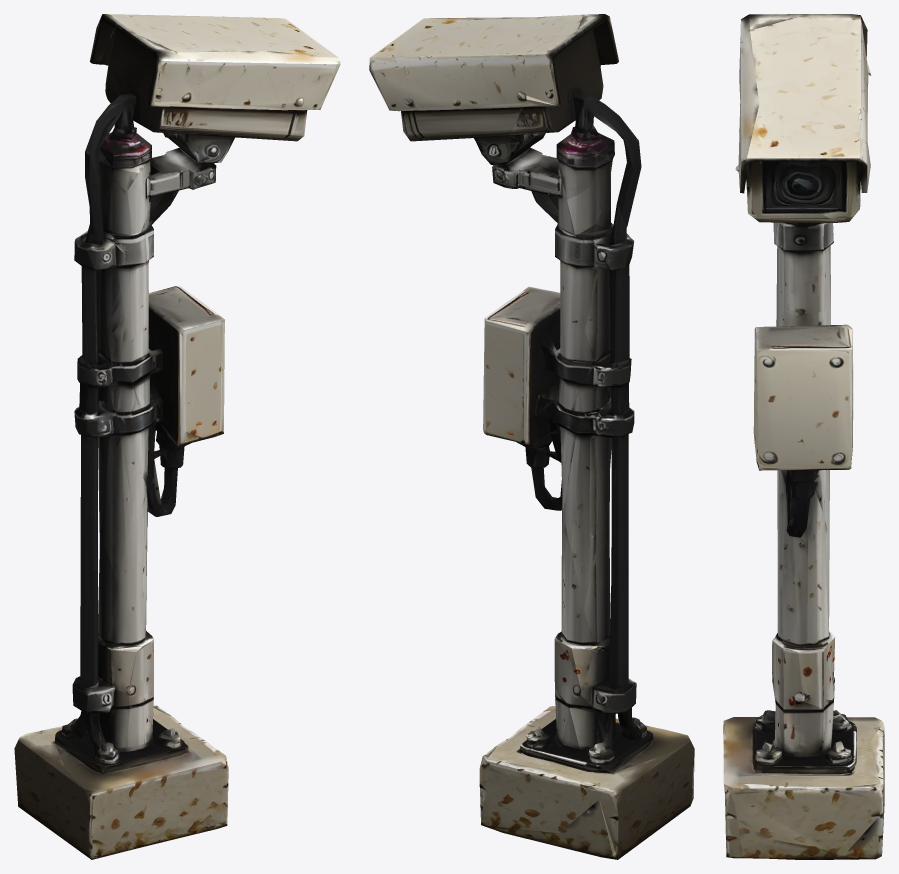
The model's file is camera-pole.glb.
3 renders of one model, left to right at view 1: azimuth 30°, elevation 25°; view 2: azimuth 150°, elevation 25°; view 3: azimuth 270°, elevation 25°, orthographic. The views are drawn at different scales.
Visible parts, largest first — view 1: node_0; view 2: node_0; view 3: node_0.
Boxes of the visible parts, left/top/right/bottom form: node_0: left=14, top=14, right=340, bottom=859; node_0: left=369, top=14, right=694, bottom=859; node_0: left=723, top=14, right=884, bottom=859.
Size of the model in its own units: 0.3912 by 1.13 by 0.2014.
Materials: 1 (1 with a texture image).
